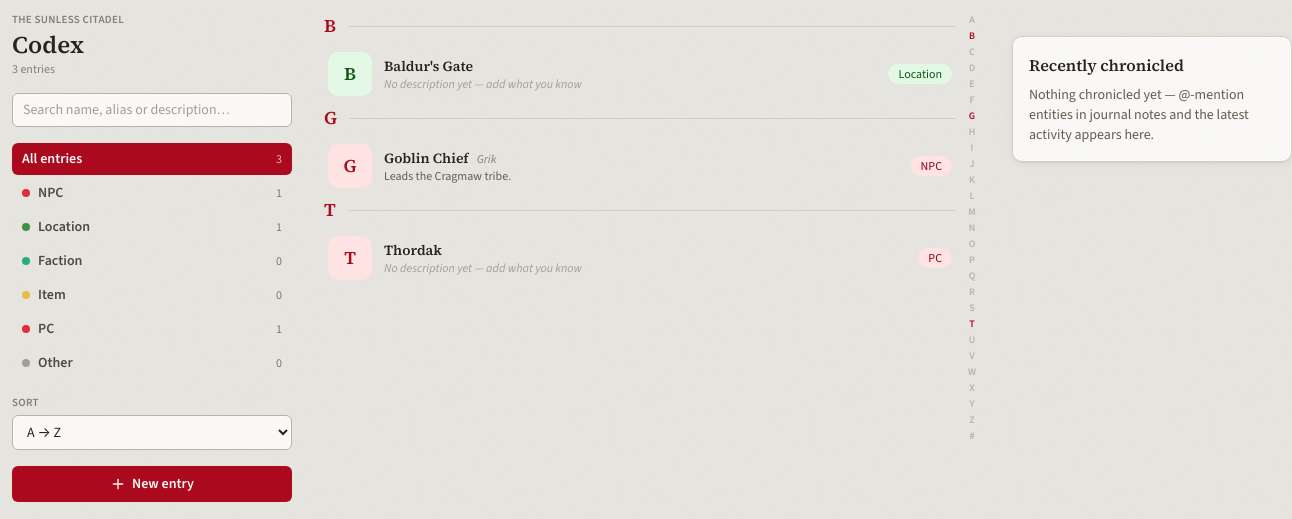
CampaignCodex rail filters (#840) › searches by name
Type "gob" into the search field labelled "Search name, alias or description…".
click(152, 110); type("gob")  # box [12, 92, 292, 126]
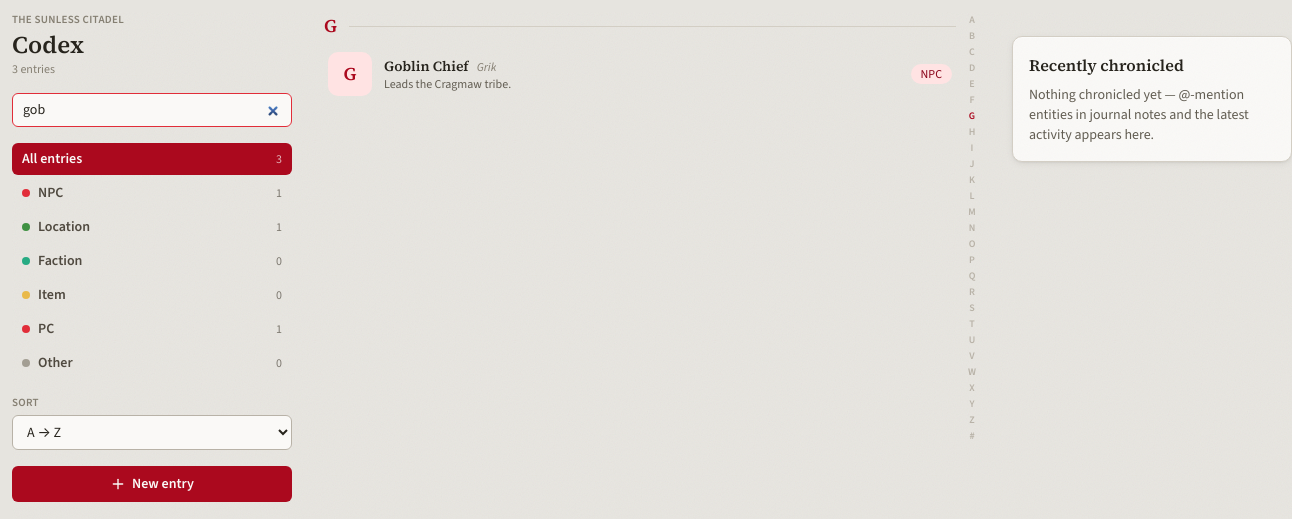
Expected: the link "G Goblin Chief Grik Leads the Cragmaw tribe. NPC" is shown, [324, 44, 956, 104]
Expected: the link "Thordak" is gone
